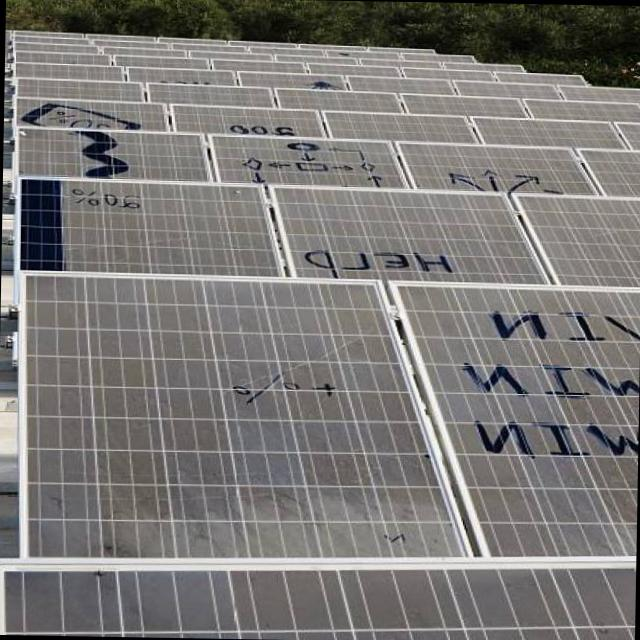faulty: (21, 284, 461, 561), (402, 290, 640, 555), (275, 191, 548, 282), (18, 185, 282, 271), (19, 128, 207, 187), (515, 200, 639, 286), (218, 138, 409, 187), (405, 148, 583, 197), (172, 101, 321, 140), (23, 96, 168, 135)
